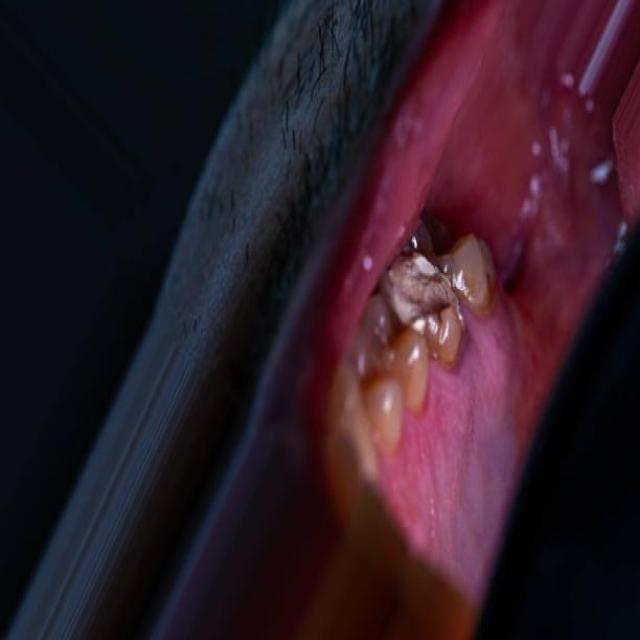caries: (383, 246, 453, 322)
